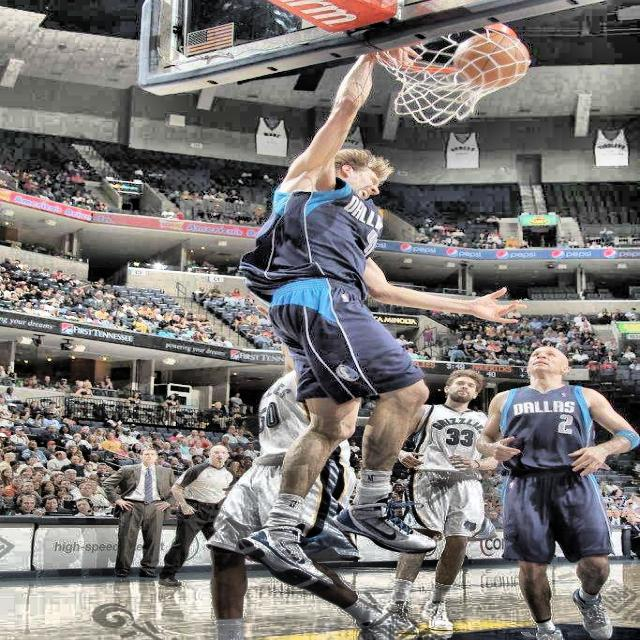board: (452, 25, 530, 90)
